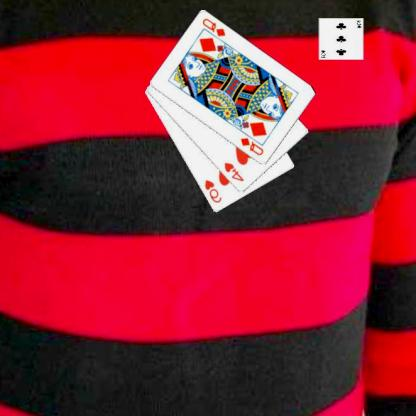4H: (223, 160, 247, 184)
6H: (204, 177, 225, 204)
QD: (239, 135, 267, 157), (201, 16, 229, 38)
